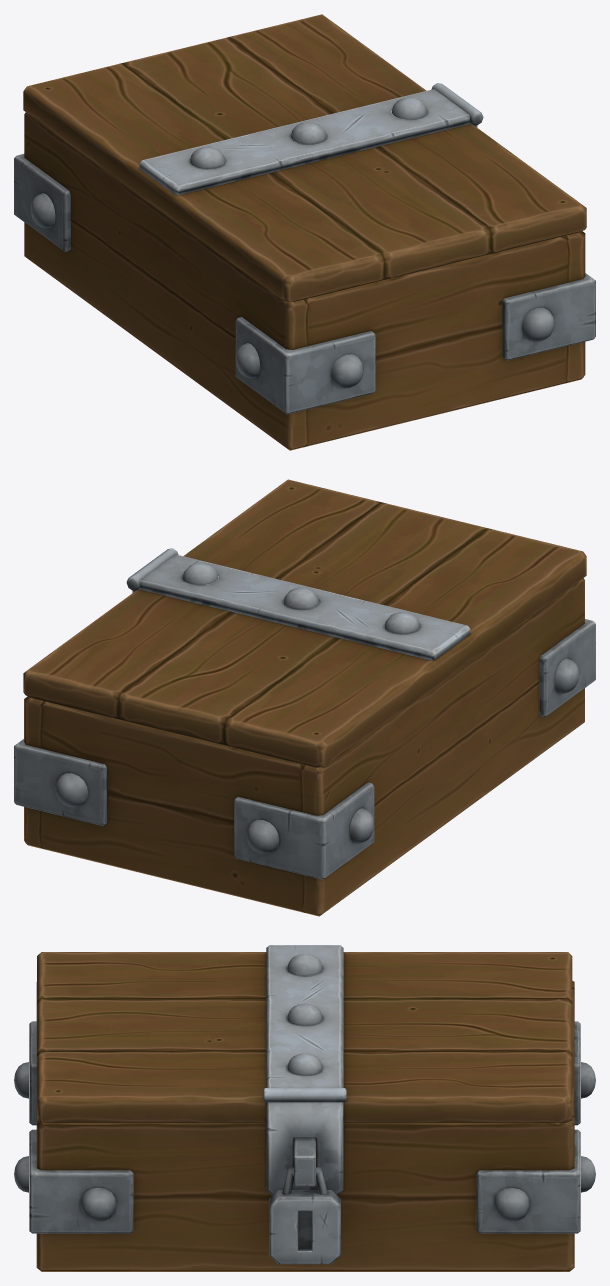
Rendered from SM_Lockbox.fbx.
The picture shows the model from 3 angles, top to bottom: view 1: azimuth 30°, elevation 25°; view 2: azimuth 150°, elevation 25°; view 3: azimuth 270°, elevation 25°; orthographic projection.
Parts seen in each view (by area): view 1: SM_Lockbox_LOD0; view 2: SM_Lockbox_LOD0; view 3: SM_Lockbox_LOD0.
Part boxes in pixels (x1,y1,x2,y2): SM_Lockbox_LOD0: (14,14,595,450); SM_Lockbox_LOD0: (14,479,595,916); SM_Lockbox_LOD0: (14,945,595,1271).
Size of the model in its own units: 31.37 by 44.48 by 16.55.
Materials: 1 (1 with a texture image).
